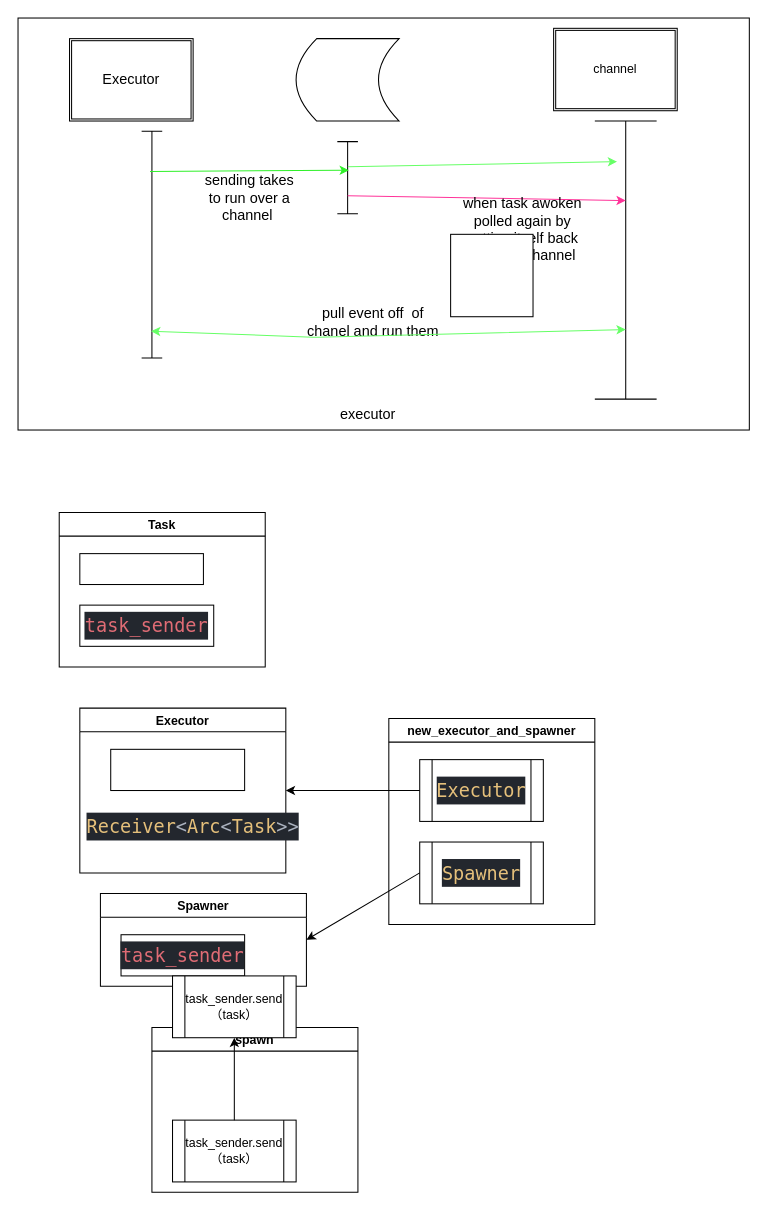
Some shapes in this 767 by 1210 pixel diagram are drawn without their labels. Here are the shapes that lost their labels. From the top down, the centre of each, then its label:
point (347, 79): task is futures
point (141, 569): futrue
point (177, 769): ready_queue
